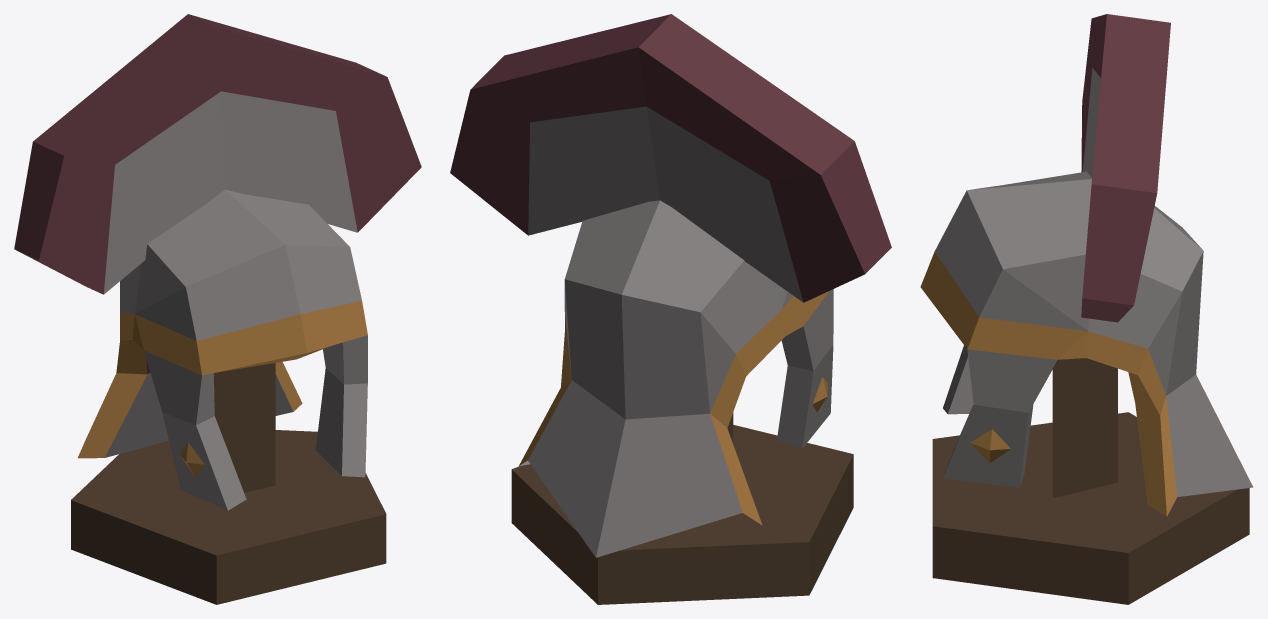
File: empire-helmet-stand-roman-leader-empire.glb
3 renders of one model, left to right at view 1: azimuth 30°, elevation 25°; view 2: azimuth 150°, elevation 25°; view 3: azimuth 270°, elevation 25°, orthographic. The views are drawn at different scales.
Parts seen in each view (by area): view 1: SM_Helmet_Stand_Roman_Leader_Empire; view 2: SM_Helmet_Stand_Roman_Leader_Empire; view 3: SM_Helmet_Stand_Roman_Leader_Empire.
Boxes of the visible parts, x1,y1,x2,y2 form: SM_Helmet_Stand_Roman_Leader_Empire: (14,14,421,604); SM_Helmet_Stand_Roman_Leader_Empire: (450,14,891,604); SM_Helmet_Stand_Roman_Leader_Empire: (920,14,1253,604).
Bounding box in the file's own units: 0.3993 × 0.4938 × 0.2863.
